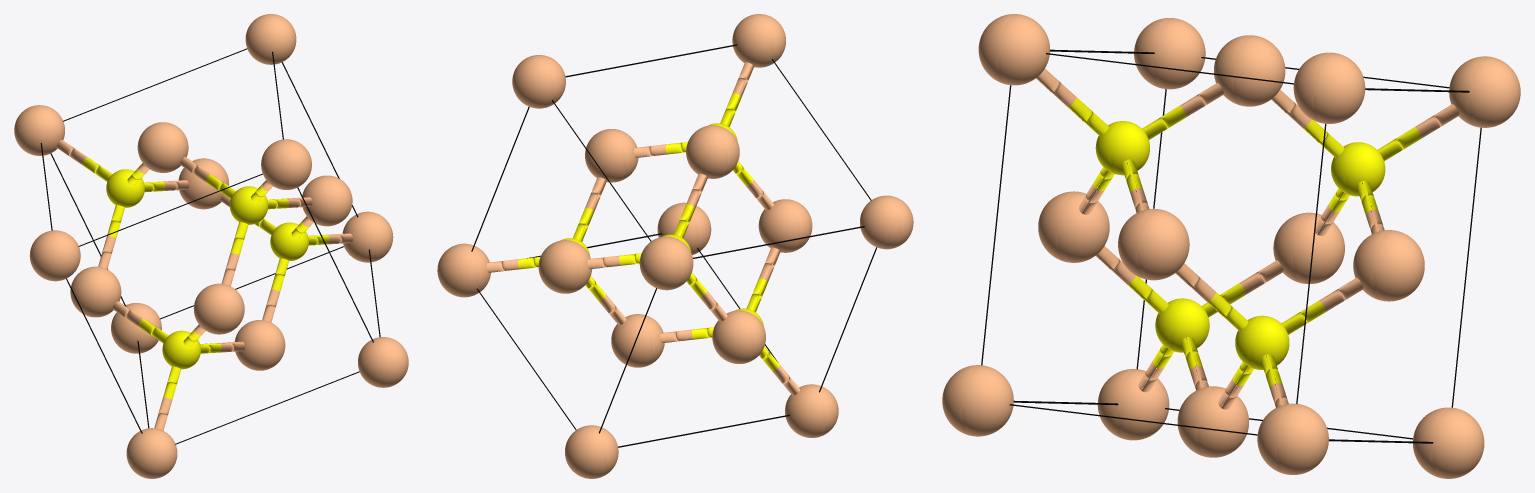
Rendered from ZnS.glb.
3 renders of one model, left to right at view 1: azimuth 30°, elevation 25°; view 2: azimuth 150°, elevation 25°; view 3: azimuth 270°, elevation 25°, orthographic. The views are drawn at different scales.
Visible parts, largest first — view 1: UnitCellSegment_0; view 2: UnitCellSegment_0; view 3: UnitCellSegment_0.
Boxes of the visible parts, x1=… form: UnitCellSegment_0: x1=14, y1=14, x2=408, y2=478; UnitCellSegment_0: x1=437, y1=14, x2=913, y2=478; UnitCellSegment_0: x1=942, y1=14, x2=1520, y2=478.
Size of the model in its own units: 0.9957 by 0.863 by 0.8858.
